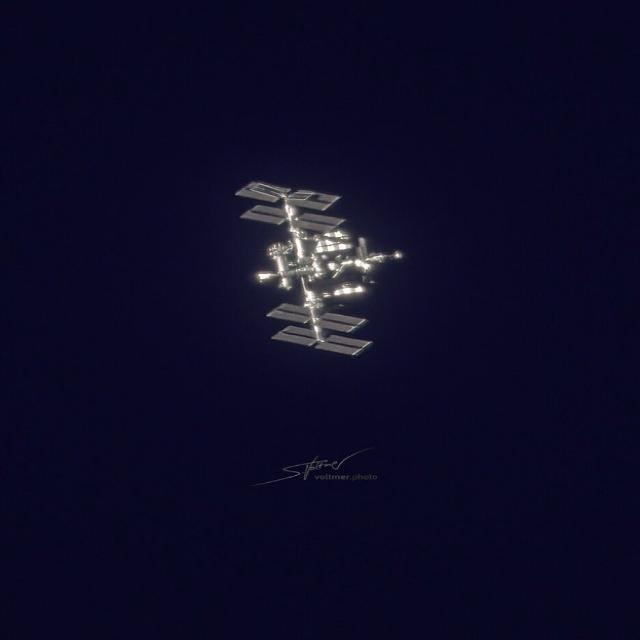satellite: (212, 164, 425, 380)
